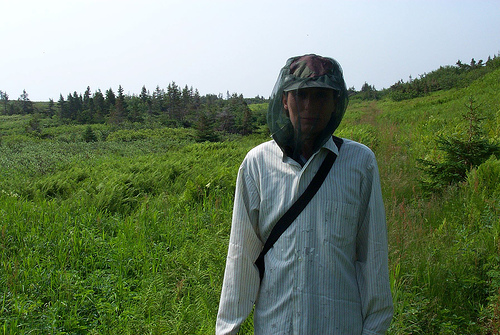without_mask: (283, 68, 339, 138)
